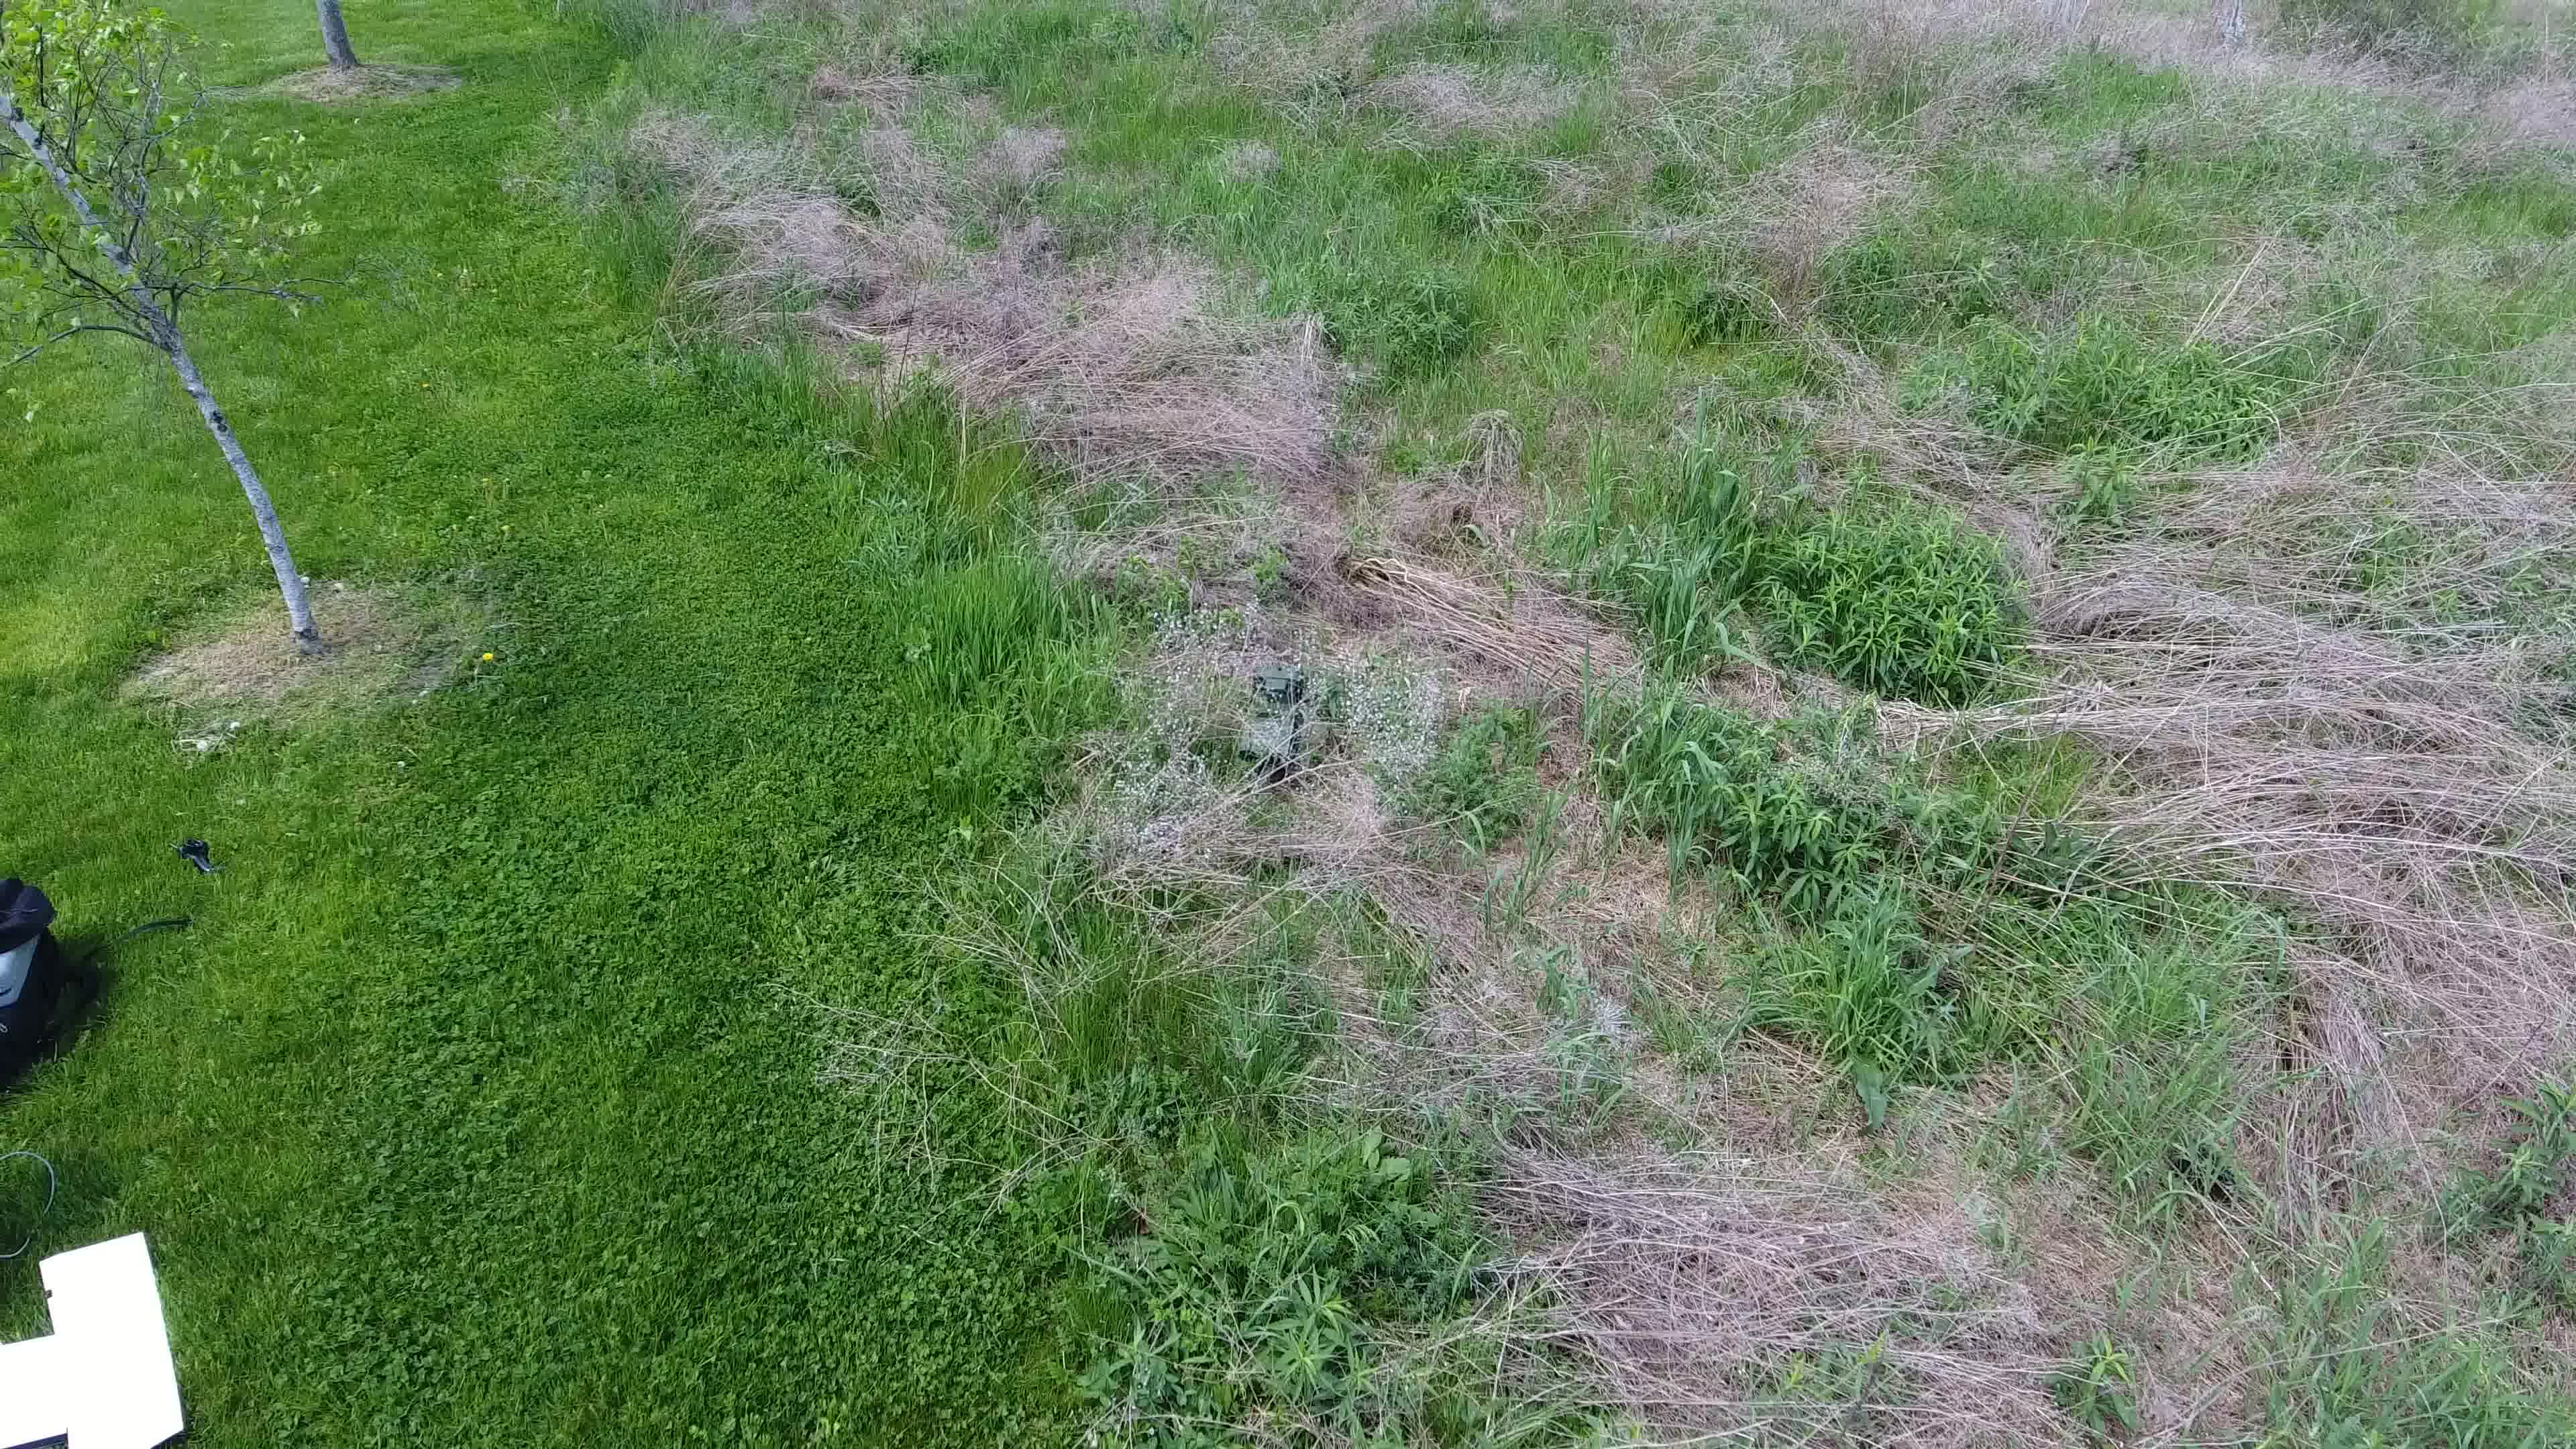transporter9: (1230, 660, 1313, 787)
